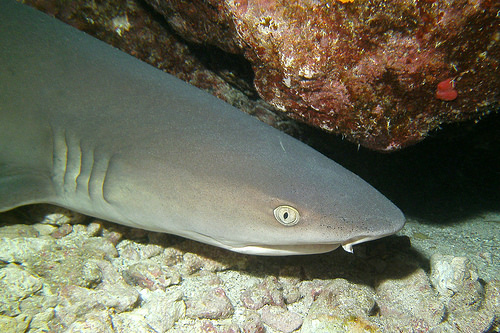shark: (5, 4, 411, 275)
